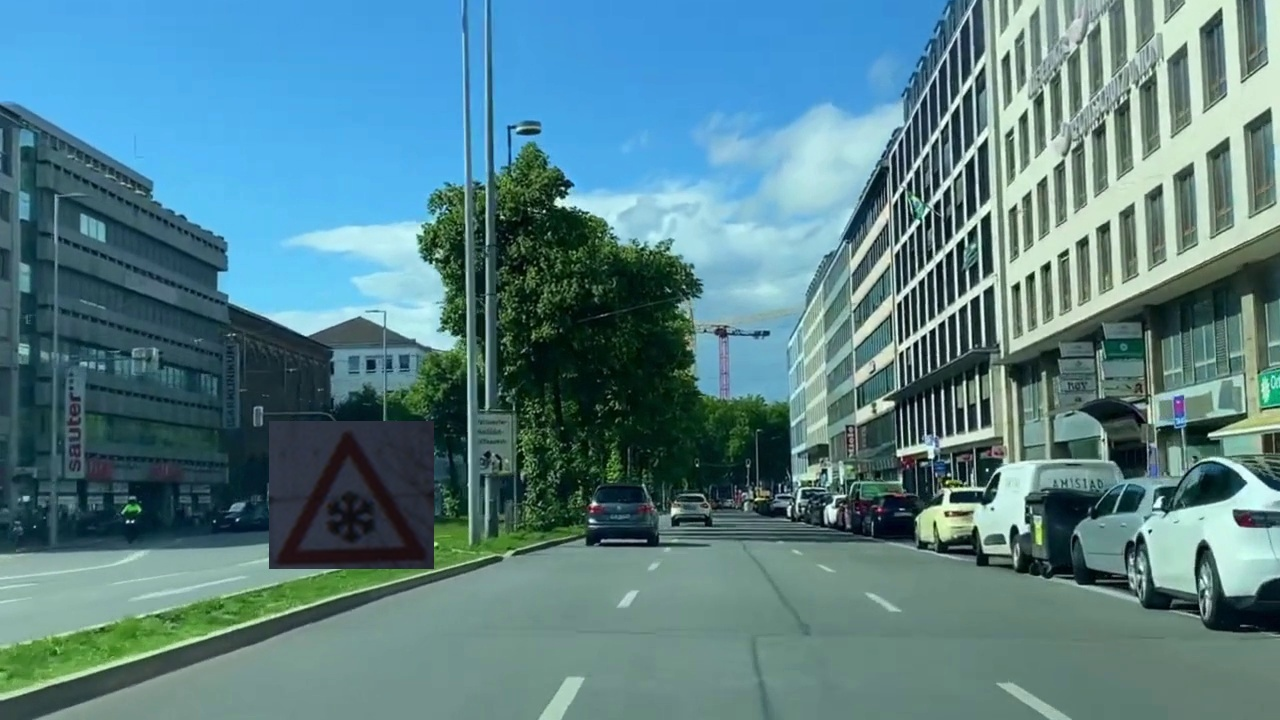Ice/snow: (269, 421, 434, 569)
